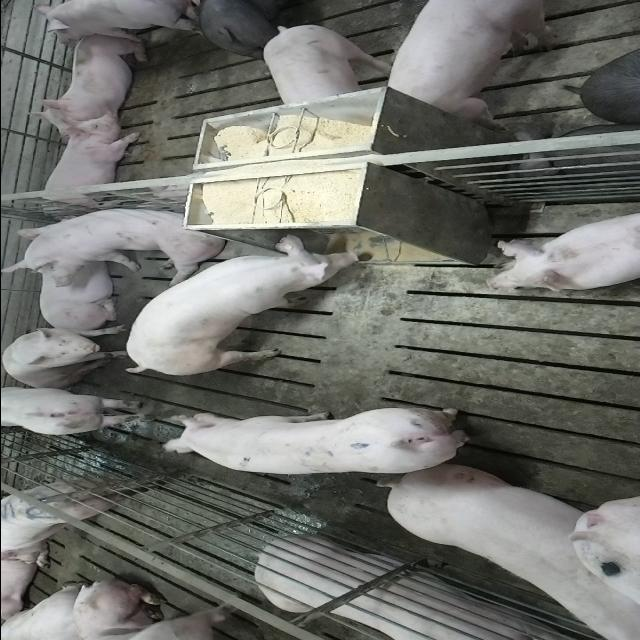Feeding: (125, 228, 378, 371)
Sitting: (5, 200, 230, 280), (1, 325, 125, 388)
Standing: (158, 406, 480, 478), (382, 2, 570, 122), (262, 22, 396, 105), (2, 384, 154, 438), (190, 0, 323, 56), (32, 0, 202, 42), (575, 43, 638, 123)
Sternal_lying: (249, 538, 577, 640), (484, 209, 640, 291), (24, 33, 146, 137), (24, 214, 126, 330), (30, 118, 140, 214)
